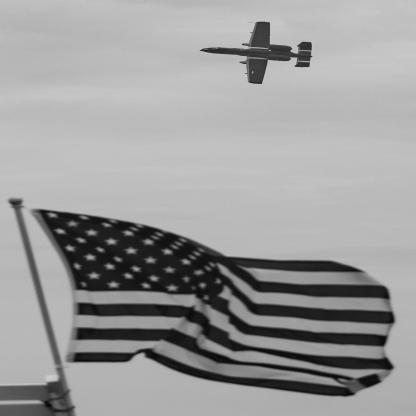A10: (201, 22, 314, 85)
